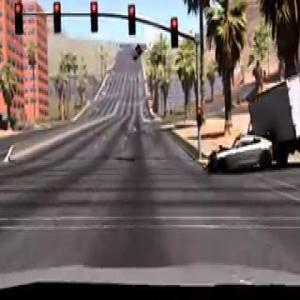critical: (204, 57, 300, 185)
